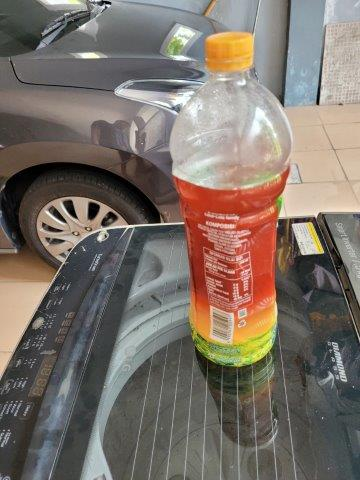botolplastik: (170, 32, 294, 368)
